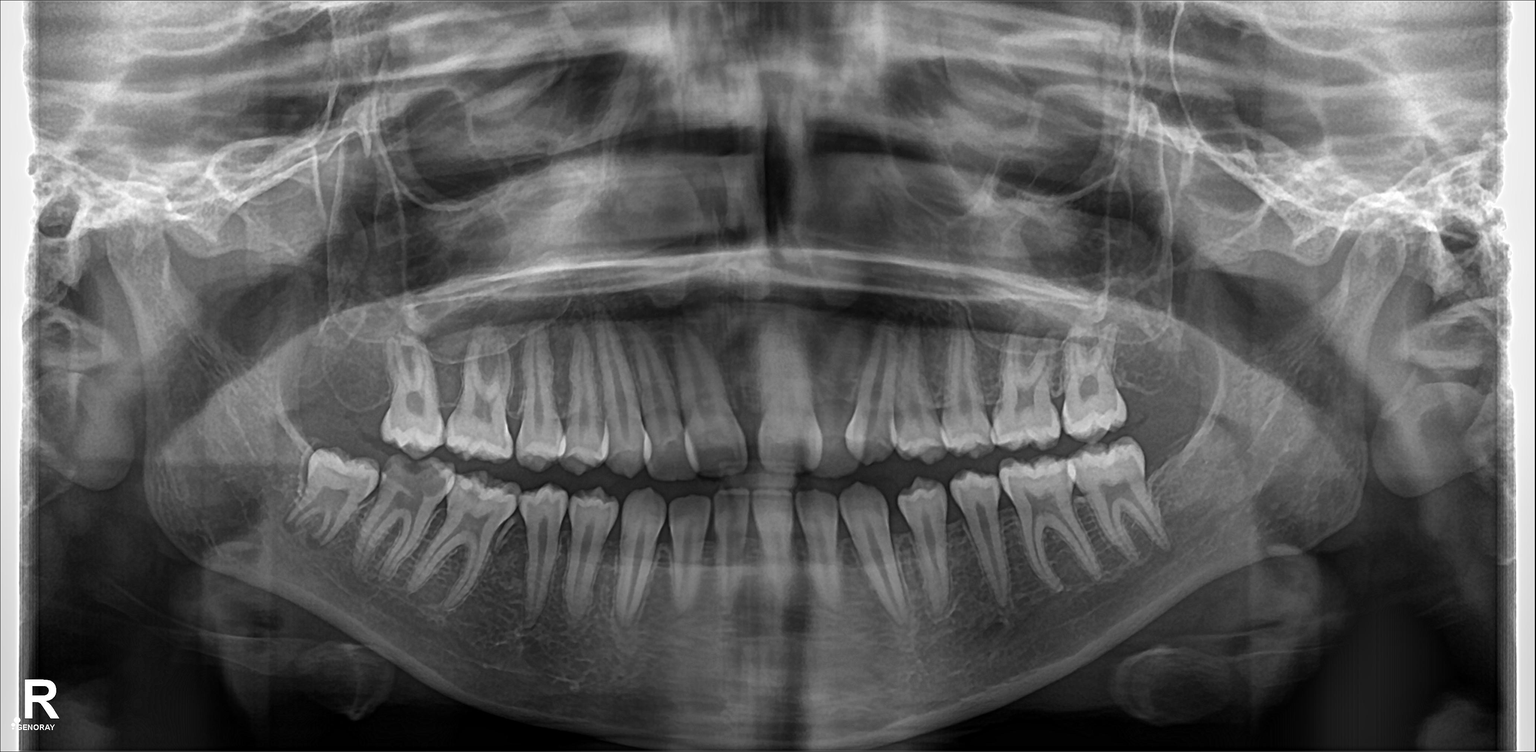Dental Caries: (391, 454, 444, 498), (691, 443, 742, 472)
Missing Tooth: (339, 322, 392, 419), (1125, 326, 1180, 413), (1147, 432, 1207, 509), (294, 335, 343, 411)
